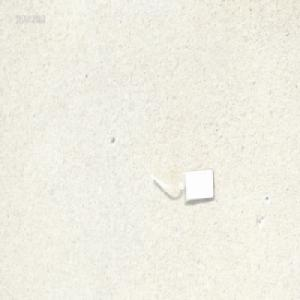LuggageTag: (148, 166, 214, 205)
